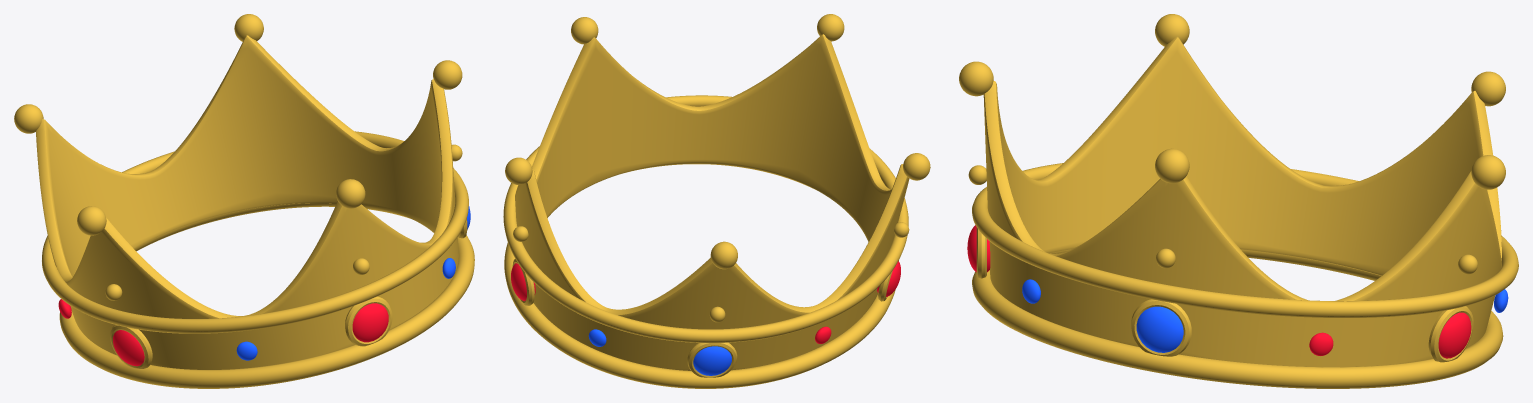
File: crown-gold.glb
3 renders of one model, left to right at view 1: azimuth 30°, elevation 25°; view 2: azimuth 150°, elevation 25°; view 3: azimuth 270°, elevation 25°, orthographic. The views are drawn at different scales.
Parts seen in each view (by area): view 1: CrownGold, CrownGemsRed, CrownGemsBlue; view 2: CrownGold, CrownGemsBlue, CrownGemsRed; view 3: CrownGold, CrownGemsBlue, CrownGemsRed.
Boxes of the visible parts, left/top/right/bottom form: CrownGold: left=14, top=14, right=474, bottom=388; CrownGemsRed: left=58, top=299, right=388, bottom=366; CrownGemsBlue: left=236, top=206, right=470, bottom=360; CrownGold: left=503, top=14, right=930, bottom=388; CrownGemsBlue: left=588, top=329, right=731, bottom=375; CrownGemsRed: left=511, top=261, right=900, bottom=343; CrownGold: left=959, top=14, right=1518, bottom=388; CrownGemsBlue: left=1022, top=279, right=1508, bottom=352; CrownGemsRed: left=967, top=225, right=1471, bottom=358.
Bounding box in the file's own units: 0.8572 × 0.5279 × 0.9013.
